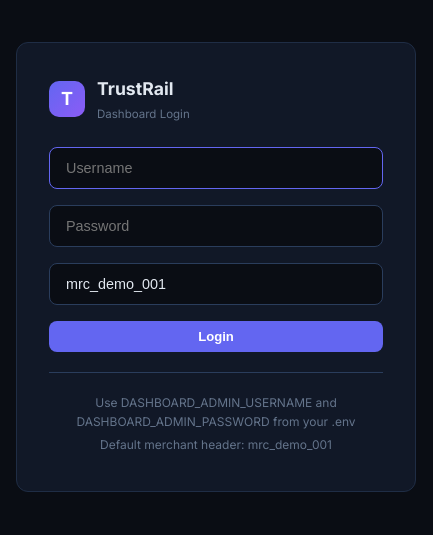
App – login screen › shows an auth-error message on bad credentials (401)
The width and height of the screenshot is (433, 535).
Type "admin" into the field with placeholder "Username" at (216, 168), box [49,147,383,189]
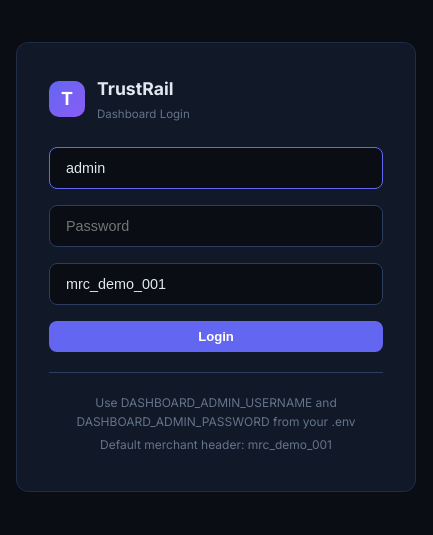
Type "badpass" into the password field with placeholder "Password" at (216, 226), box [49,205,383,247]
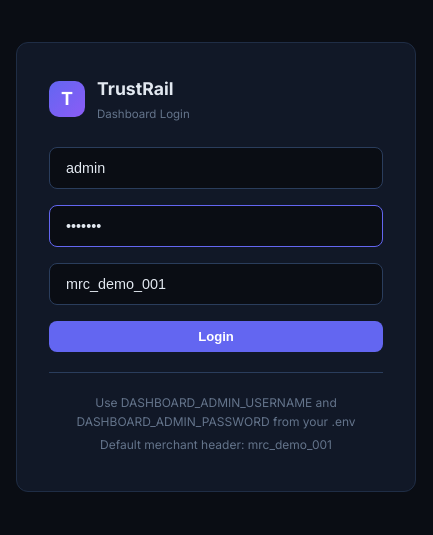
Click the button "Login" at (216, 336), box [49,321,383,352]
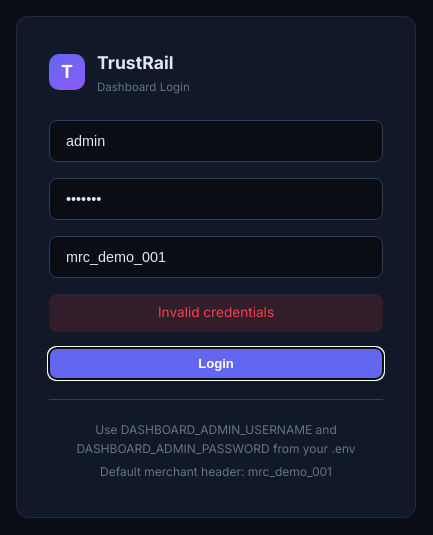
Expected: the text "Invalid credentials" is shown, [49,294,383,332]
